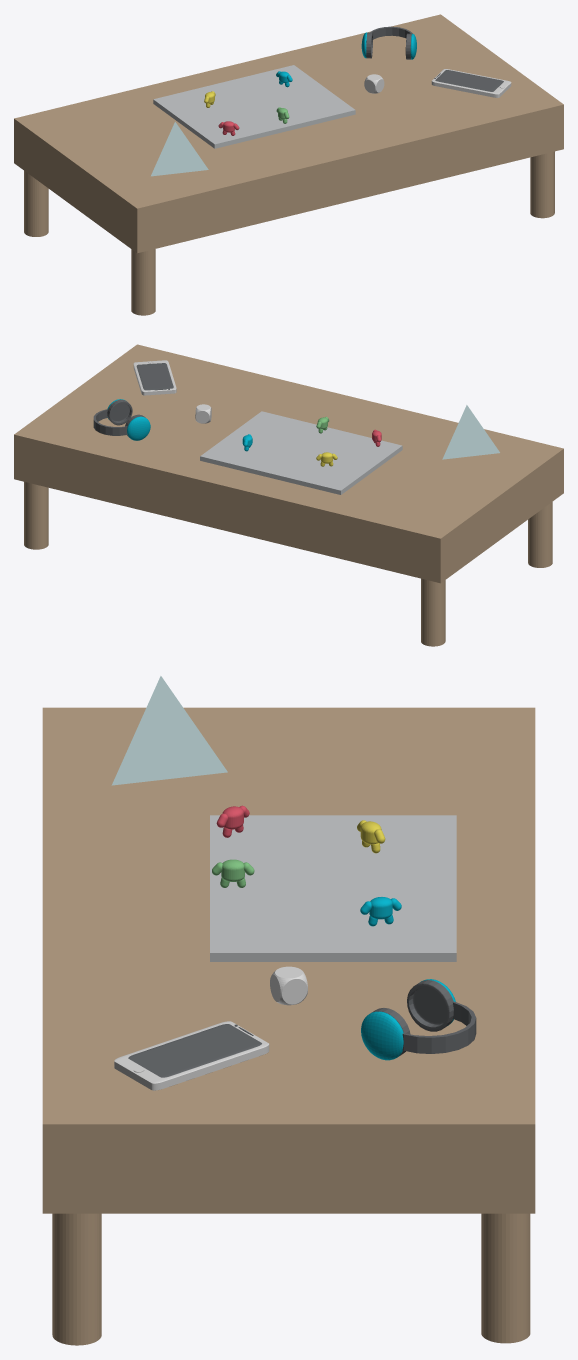
Rendered from table.glb.
3 views of the same model, one above another, from view 1: azimuth 30°, elevation 25°; view 2: azimuth 150°, elevation 25°; view 3: azimuth 270°, elevation 25° (orthographic). The views are drawn at different scales.
Parts seen in each view (by area): view 1: Mesh_Mesh_head_geo.001_lambert2SG.001; view 2: Mesh_Mesh_head_geo.001_lambert2SG.001; view 3: Mesh_Mesh_head_geo.001_lambert2SG.001.
Part boxes in pixels (bbox=[...]): Mesh_Mesh_head_geo.001_lambert2SG.001: bbox=[14, 14, 563, 315]; Mesh_Mesh_head_geo.001_lambert2SG.001: bbox=[14, 344, 563, 646]; Mesh_Mesh_head_geo.001_lambert2SG.001: bbox=[42, 676, 535, 1345].
Bounding box in the file's own units: 100 × 36 × 50.
